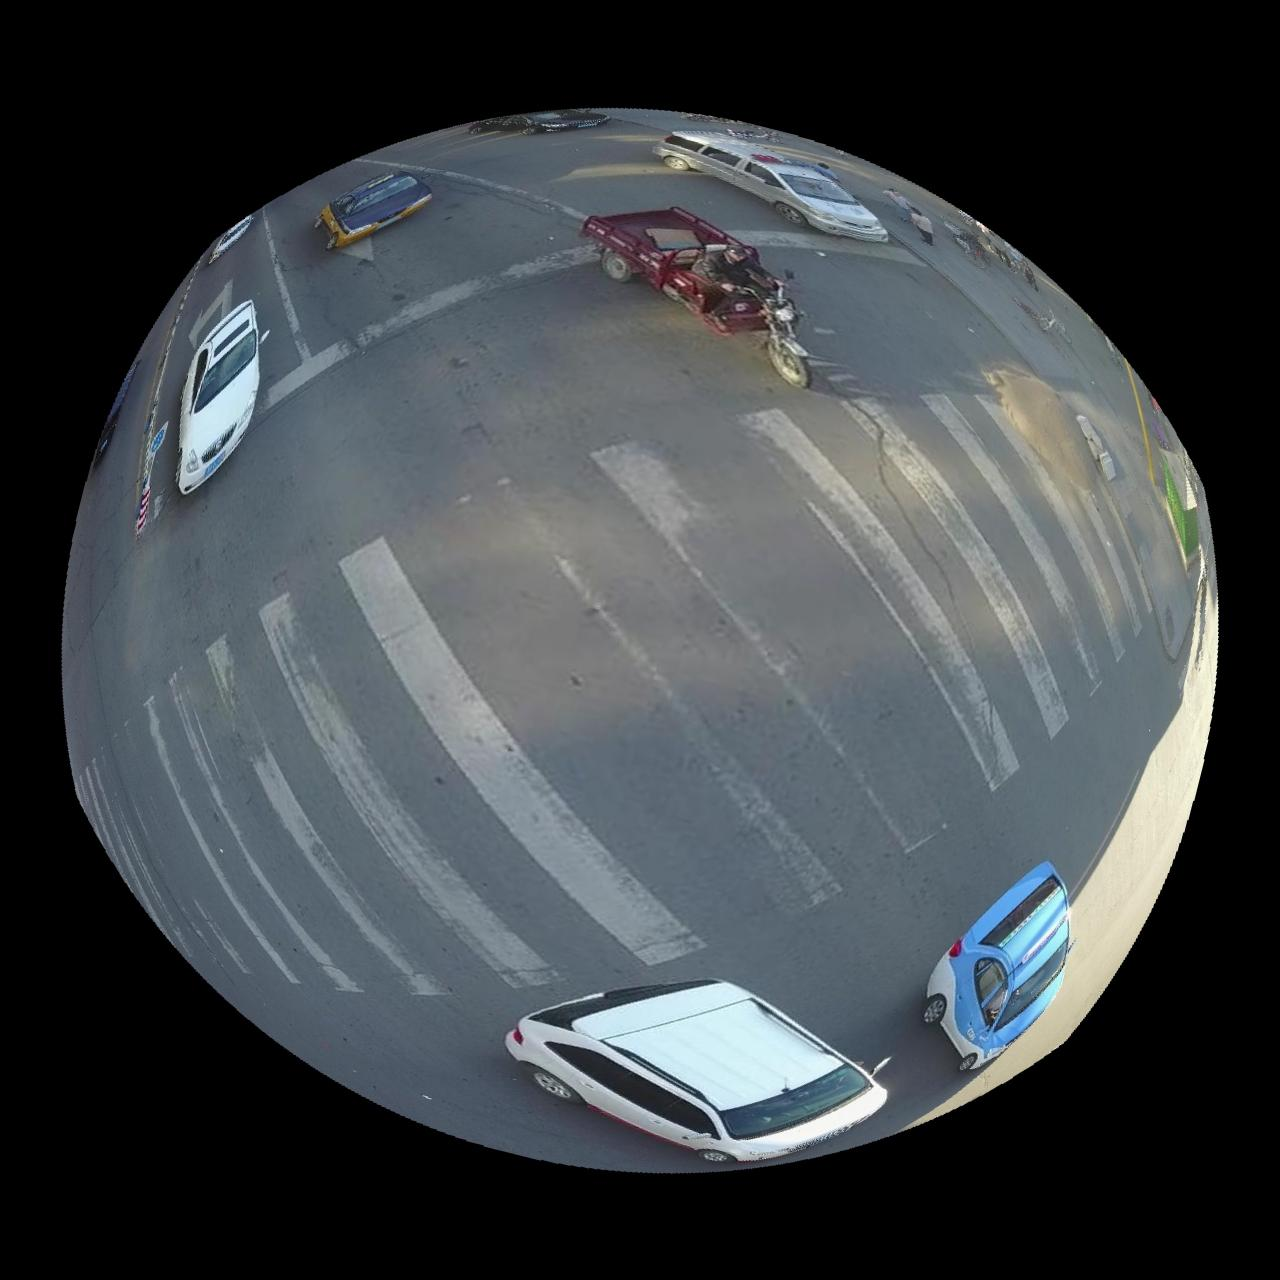cars: (505, 982, 886, 1164), (580, 206, 809, 384), (925, 864, 1071, 1071), (652, 129, 887, 240), (173, 299, 265, 495), (314, 170, 431, 247)
